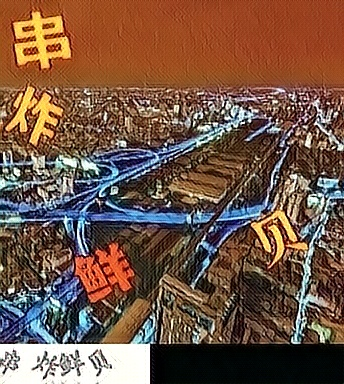B1B4: (248, 207, 310, 271)
B4AE: (10, 7, 72, 71)
CFCA: (72, 241, 134, 305)
D5A8: (4, 82, 66, 146)
